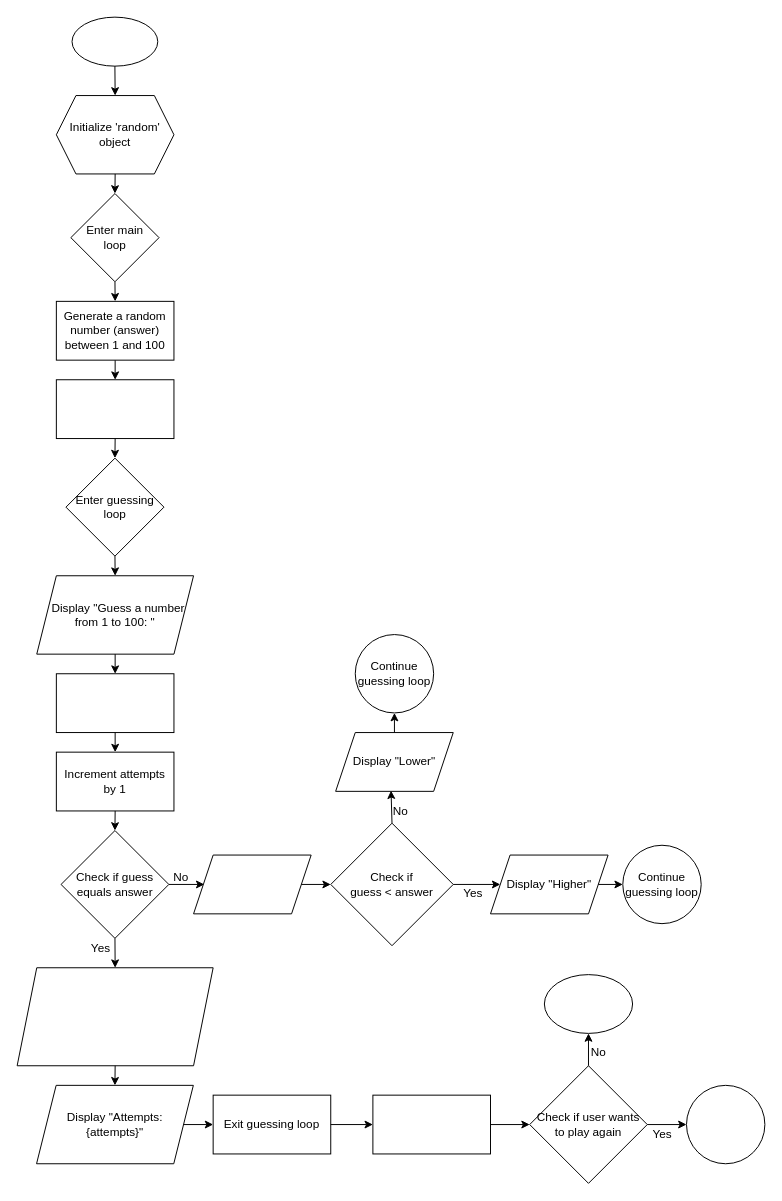
The diagram is 782 pixels wide and 1201 high, and some of its shapes have lost their labels. Each missing label, with the centre of its shape:
Display "Congratulations! You guessed correctly.": pixel 114 1016
Display "Guess Incorrect": pixel 252 884
End: pixel 588 1003
End game loop (continue to play again check): pixel 431 1124
Loop back to 'main loop': pixel 725 1124
Read user input as guess: pixel 114 703
Set attempts to 0: pixel 114 409
Start: pixel 114 41
